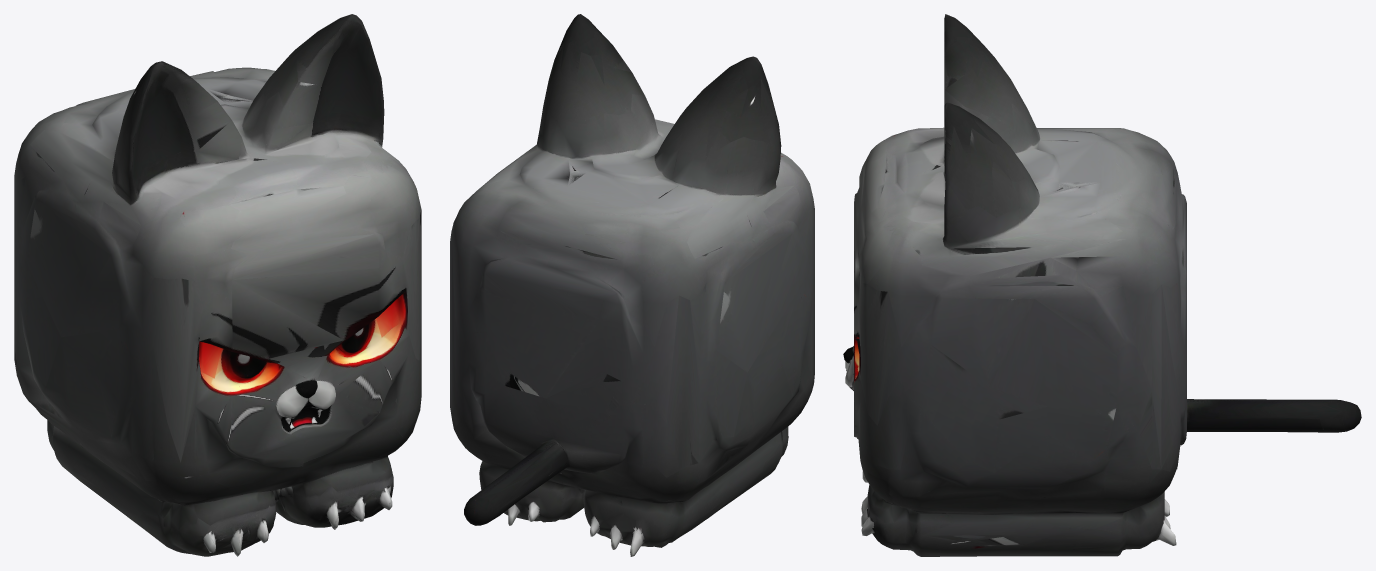
The model's file is grumpy_cat_basic_5k.fbx.
3 renders of one model, left to right at view 1: azimuth 30°, elevation 25°; view 2: azimuth 150°, elevation 25°; view 3: azimuth 270°, elevation 25°, orthographic. The views are drawn at different scales.
Visible parts, largest first — view 1: grumpy_cat_basic_decimated; view 2: grumpy_cat_basic_decimated; view 3: grumpy_cat_basic_decimated.
Boxes of the visible parts, <box> form: grumpy_cat_basic_decimated: <box>14,14,421,556</box>; grumpy_cat_basic_decimated: <box>450,14,814,556</box>; grumpy_cat_basic_decimated: <box>843,14,1361,556</box>.
Bounding box in the file's own units: 1.16 × 1.87 × 1.91.
1 material, 1 textured.
